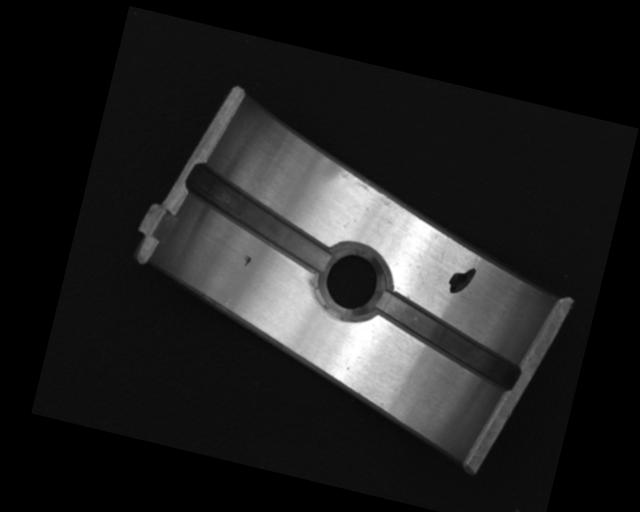blot: (445, 263, 477, 298)
bruise: (242, 254, 252, 268)
gap: (176, 163, 343, 275), (365, 291, 533, 394)
hole: (311, 240, 395, 328)
